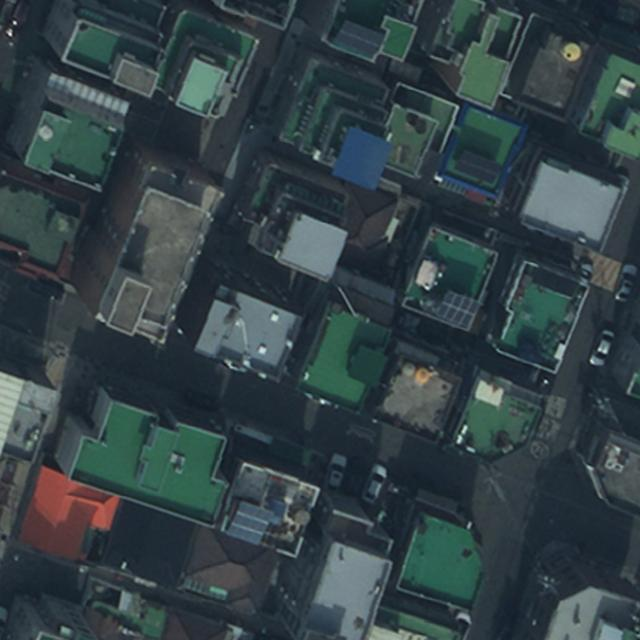solarpanel: (223, 500, 274, 546), (333, 18, 384, 55), (451, 148, 502, 183), (433, 290, 480, 326)
